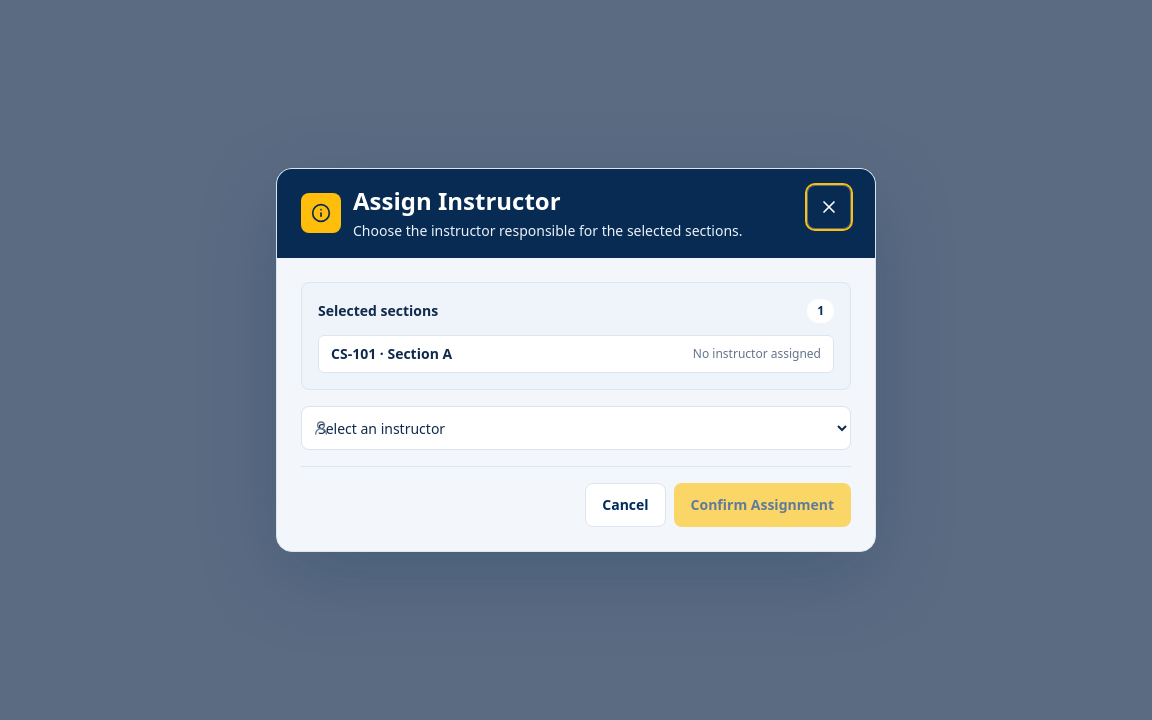
Test: AssignInstructorModal › does not render a raw HTML server error and preserves the selected instructor
Select "Rae Santos · INS-14 · rae@example.test" in the dropdown named "Instructor" at [576, 428], box [301,406,851,450]
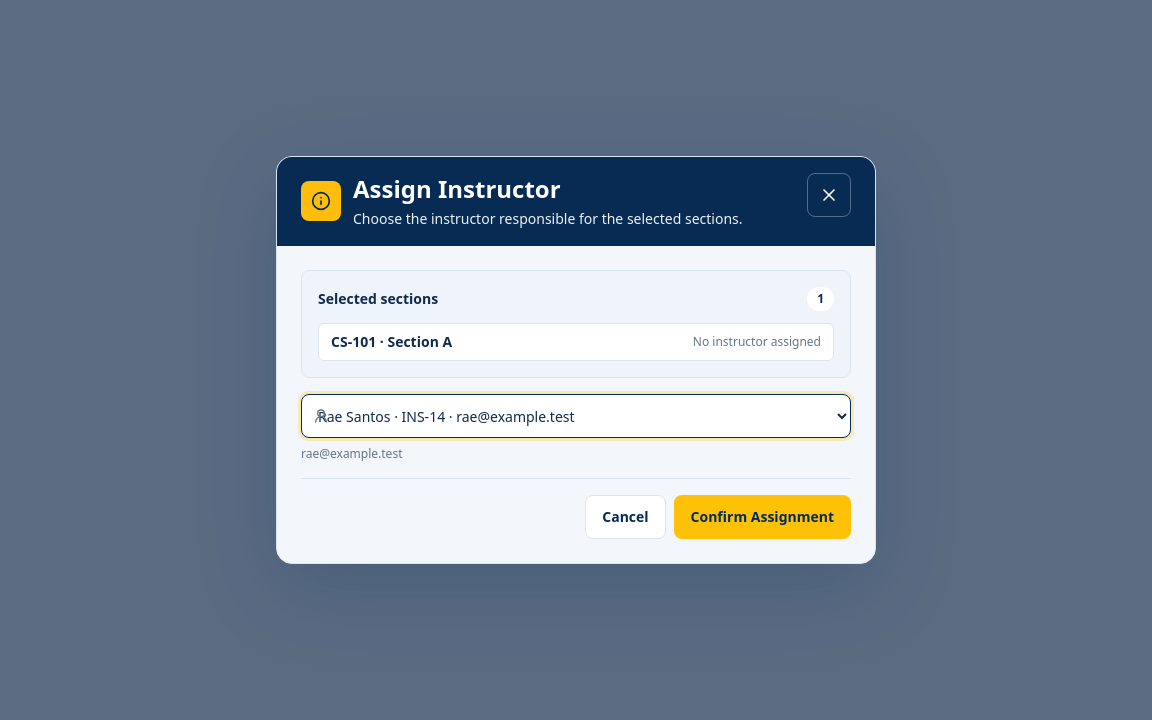
Click the button "Confirm Assignment" at [762, 517], box [674,495,851,539]
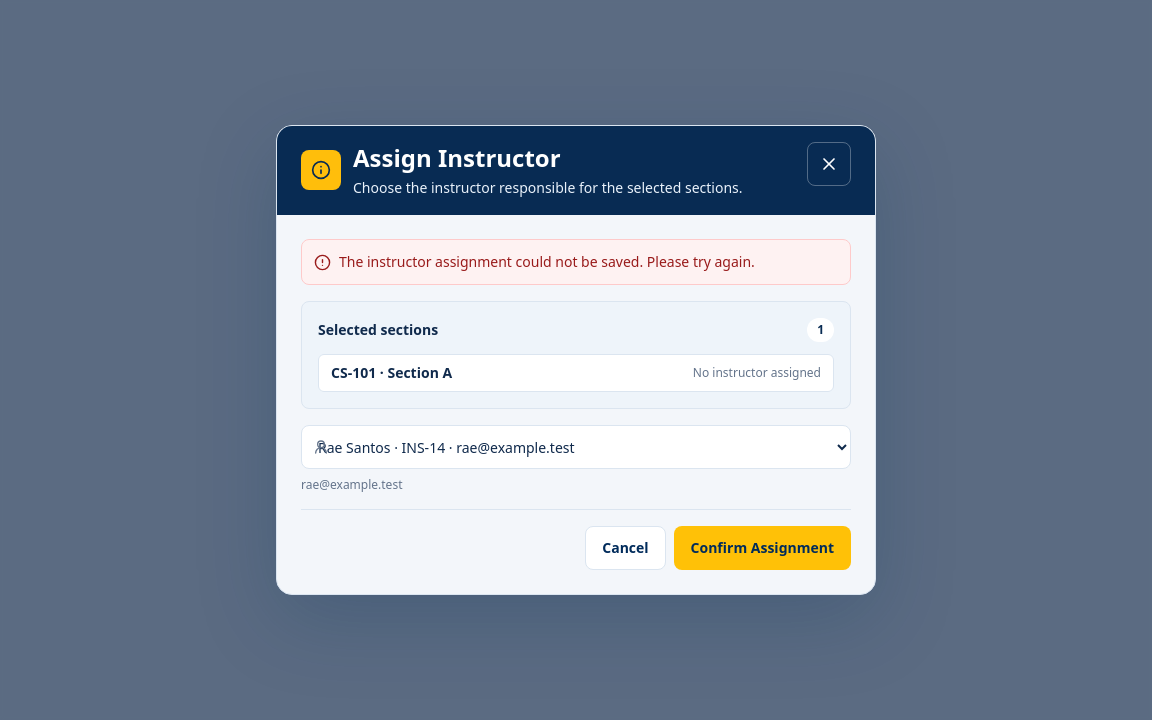
Expected: the button "Confirm Assignment" is enabled, [674,526,851,570]
Expected: the message shows "The instructor assignment could not be saved.", [339,252,755,271]
